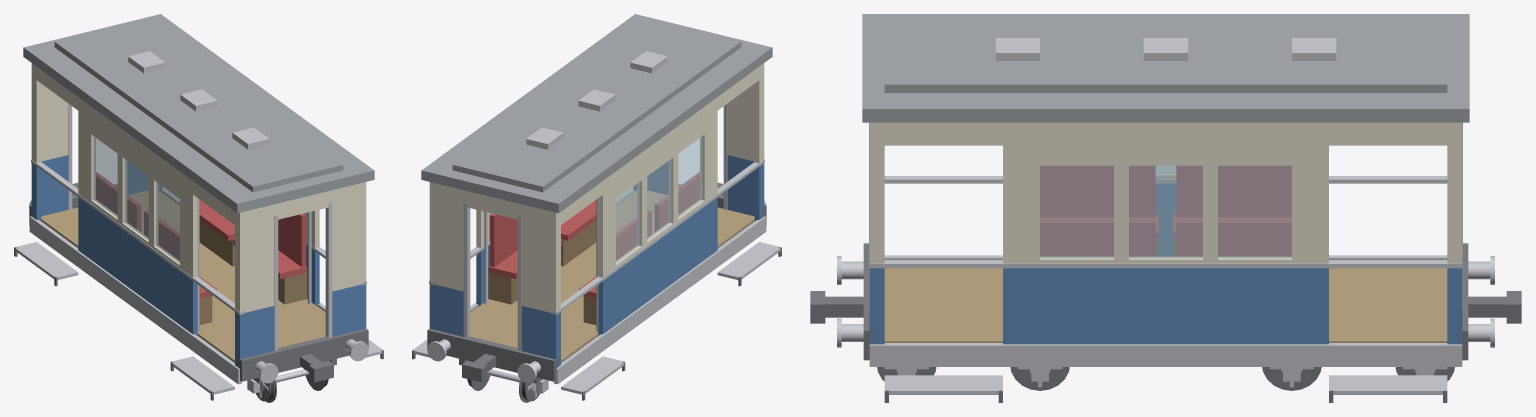
Rendered from train_passenger_wagon.glb.
3 renders of one model, left to right at view 1: azimuth 30°, elevation 25°; view 2: azimuth 150°, elevation 25°; view 3: azimuth 270°, elevation 25°, orthographic. The views are drawn at different scales.
Visible parts, largest first — view 1: body, wheel_6; view 2: body, wheel_0; view 3: body, wheel_3, wheel_5.
Part boxes in pixels (left/top/right/bottom): body: left=14, top=14, right=383, bottom=400; wheel_6: left=256, top=379, right=276, bottom=402; body: left=412, top=14, right=781, bottom=400; wheel_0: left=519, top=379, right=539, bottom=402; body: left=810, top=14, right=1521, bottom=402; wheel_3: left=1262, top=367, right=1321, bottom=390; wheel_5: left=1010, top=367, right=1069, bottom=390.
Bounding box in the file's own units: 1.9 × 2.45 × 4.8.
